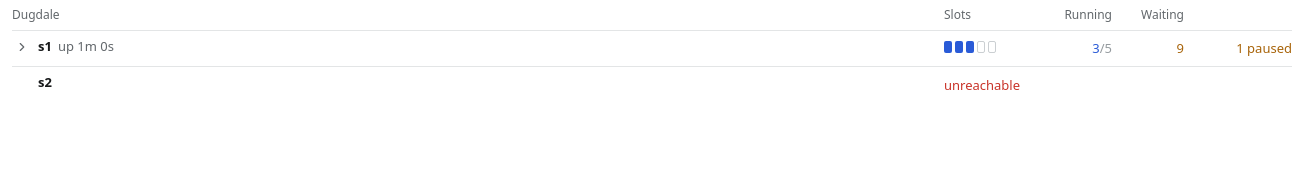
QueuesTable (collapsible) › shows the lanes when the dugdale is expanded
Click the button named "Show lanes of s1": coordinates (22, 47) [12, 37, 32, 57]
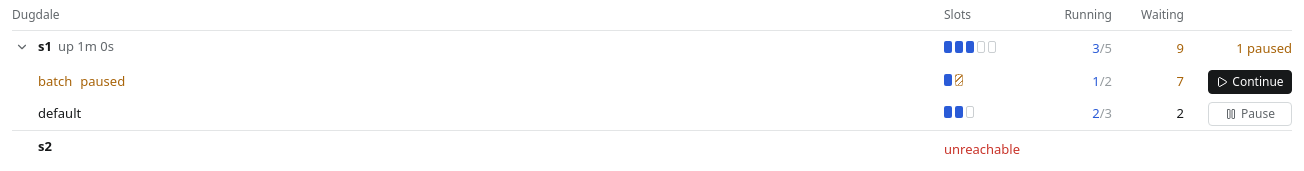
Expected: the link "default" is shown, [38, 104, 81, 122]
Expected: the button with aria-label "Continue s1/batch" is shown, [1208, 70, 1292, 94]
Expected: the button named "Hide lanes of s1" is expanded, [12, 37, 32, 57]
